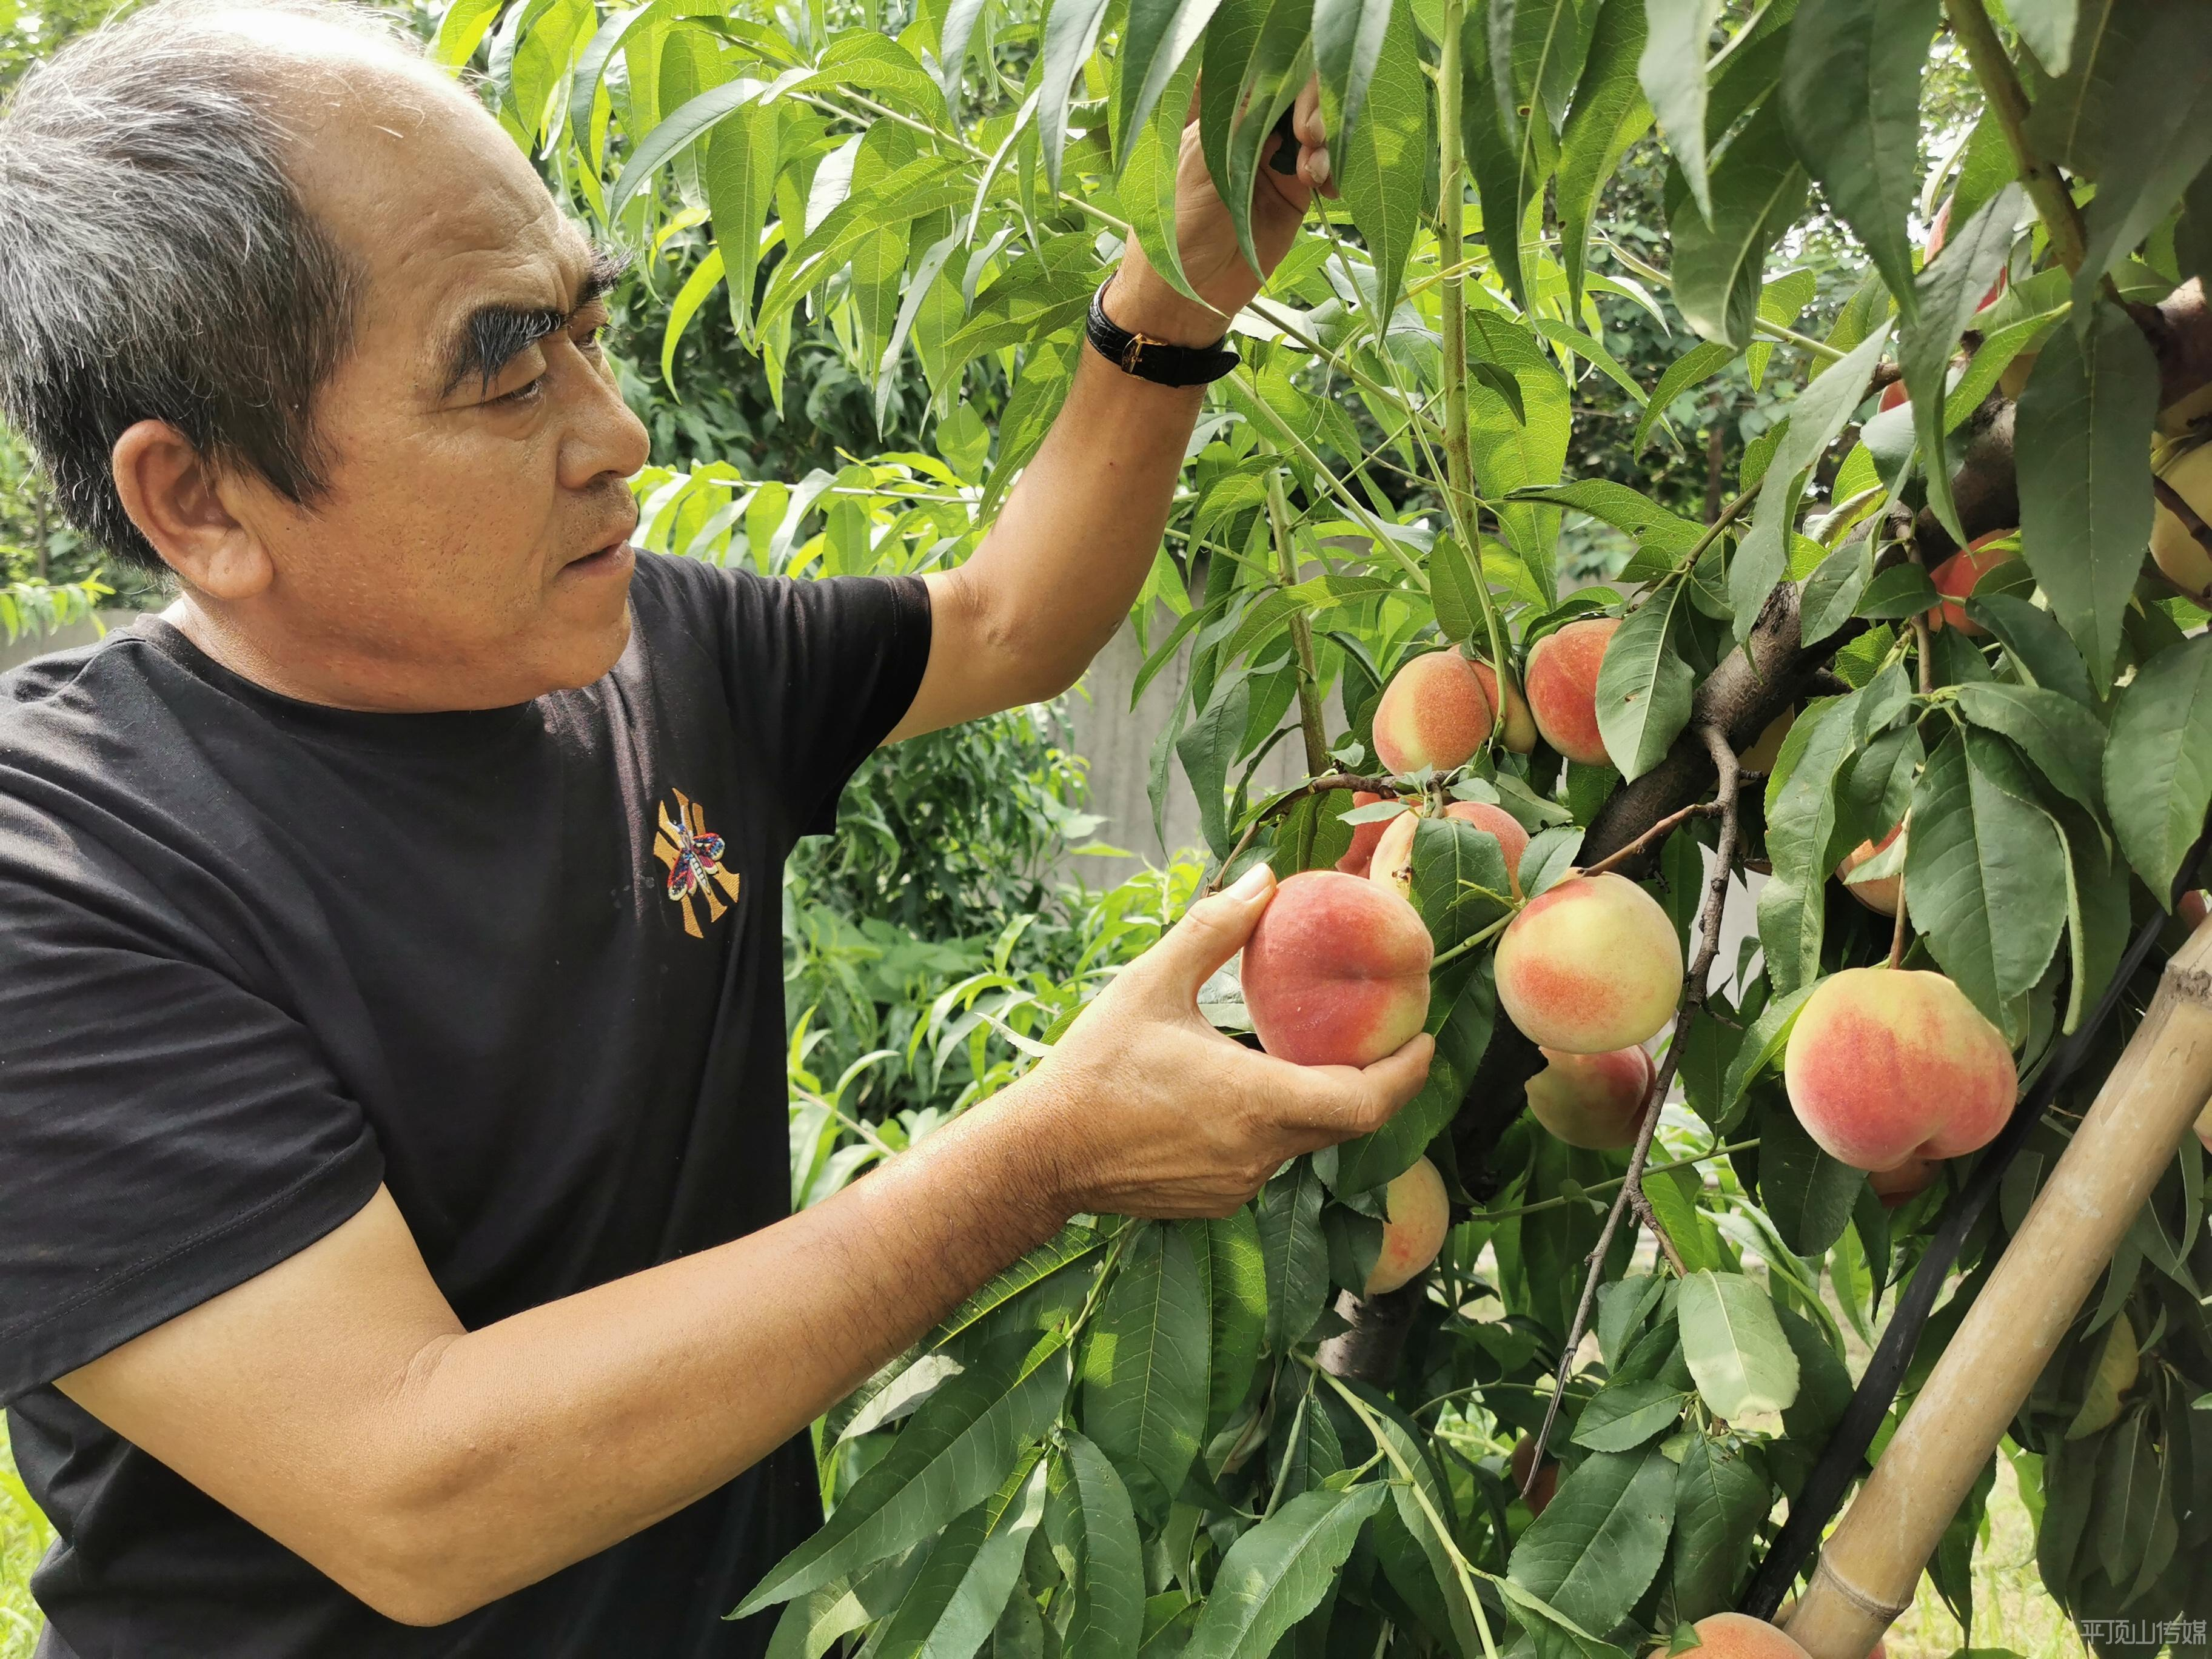apple: (1784, 965, 2017, 1176), (1238, 866, 1435, 1070), (1493, 871, 1681, 1054), (1374, 648, 1498, 777), (1522, 620, 1618, 765)
